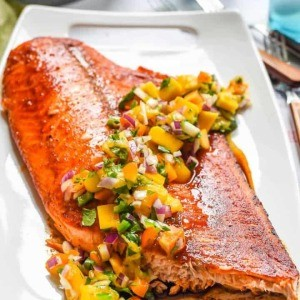salmon_brain food: (22, 37, 253, 292)
